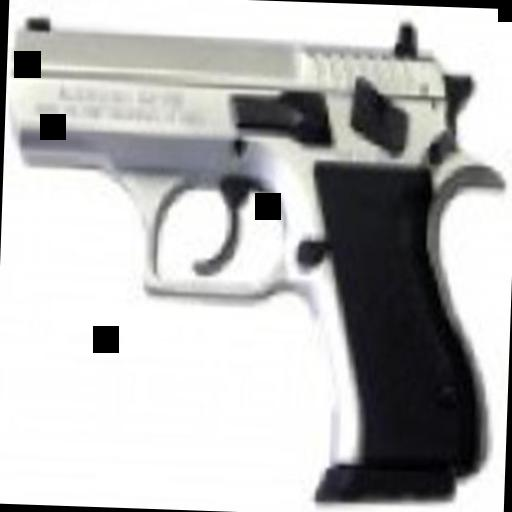Handgun: (0, 7, 509, 510)
